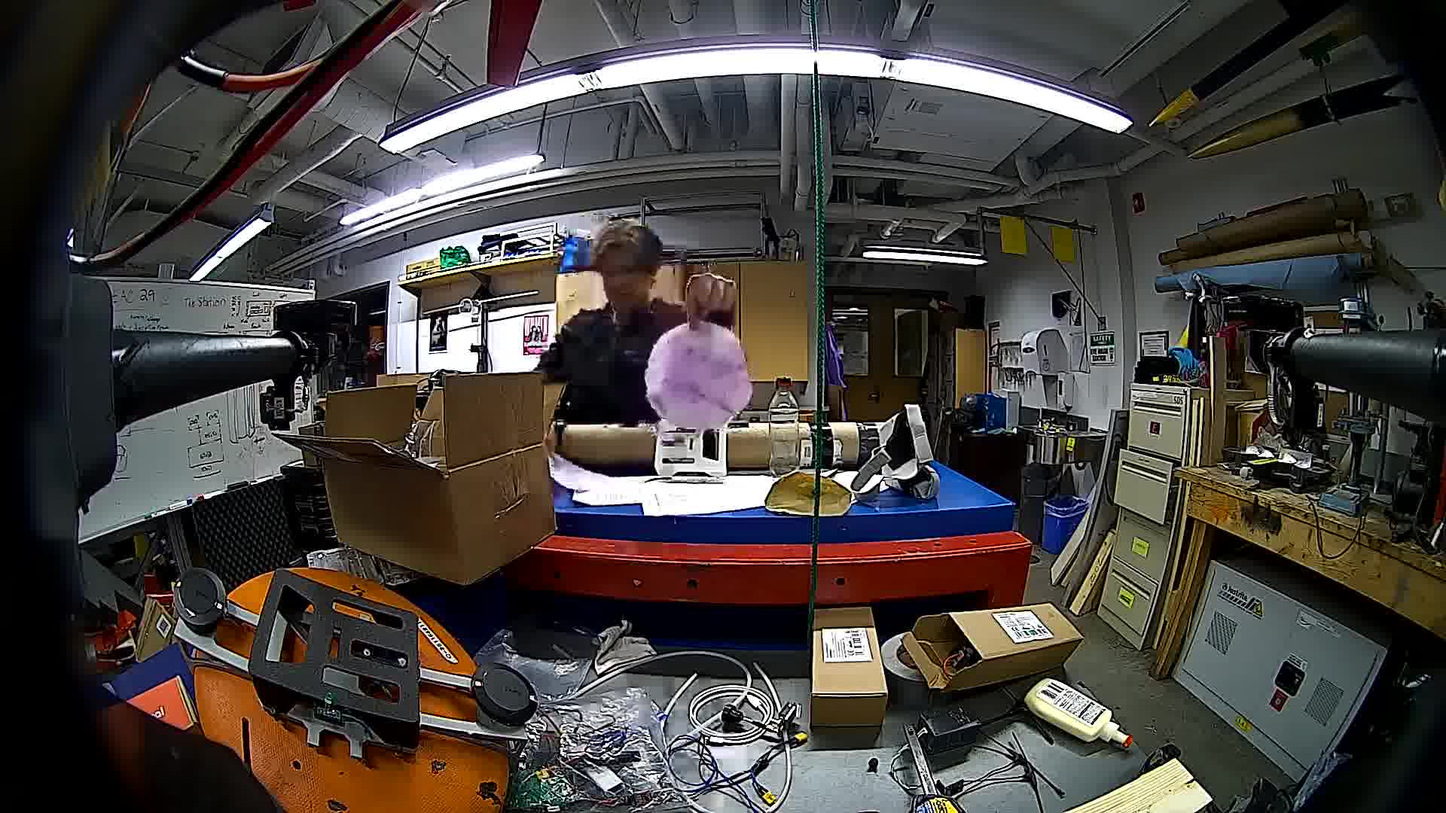Target: (644, 319, 754, 433)
